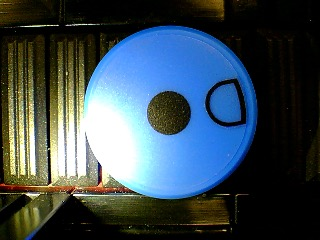BOHOMIPO1: (83, 24, 258, 200)
